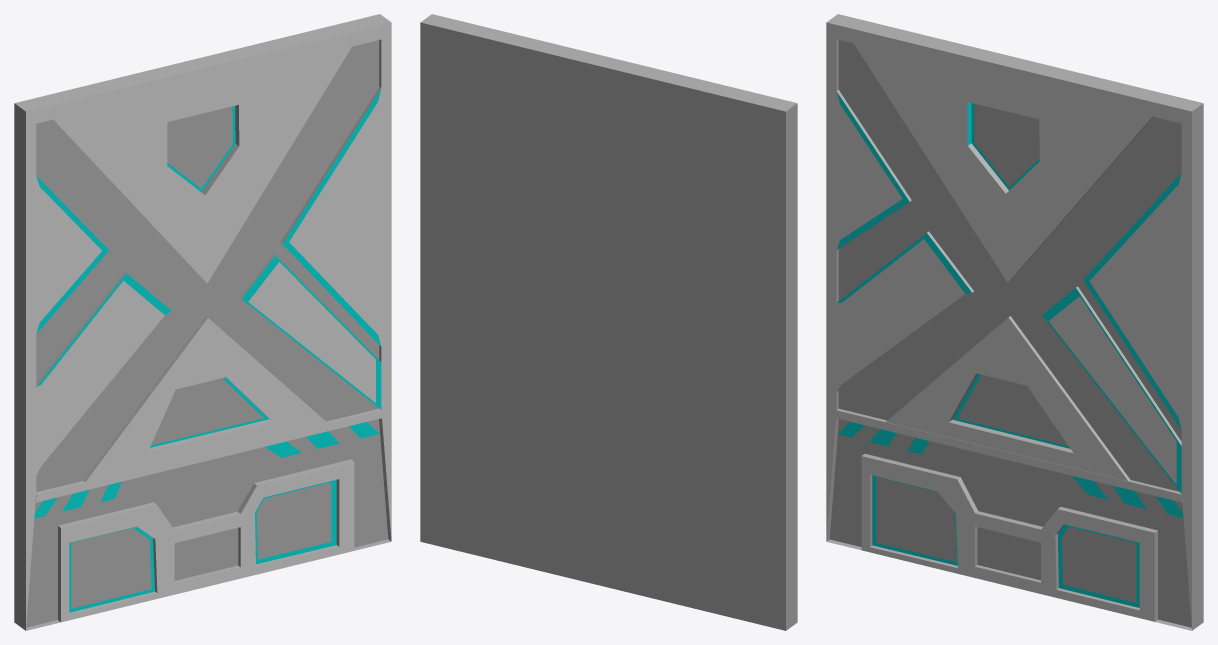
File: Door.fbx
3 views of the same model, side by side, from view 1: azimuth 30°, elevation 25°; view 2: azimuth 150°, elevation 25°; view 3: azimuth 330°, elevation 25° (orthographic).
Parts seen in each view (by area): view 1: Cube; view 2: Cube; view 3: Cube.
Part boxes in pixels (x1,y1,x2,y2): Cube: [14, 14, 391, 630]; Cube: [420, 14, 797, 630]; Cube: [826, 14, 1203, 630].
Bounding box in the file's own units: 1211 × 1644 × 67.43.
